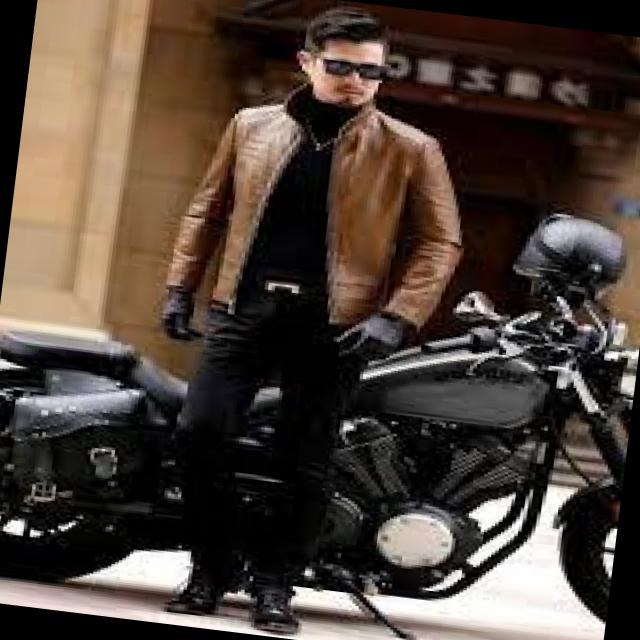Jacket: (110, 69, 491, 413)
